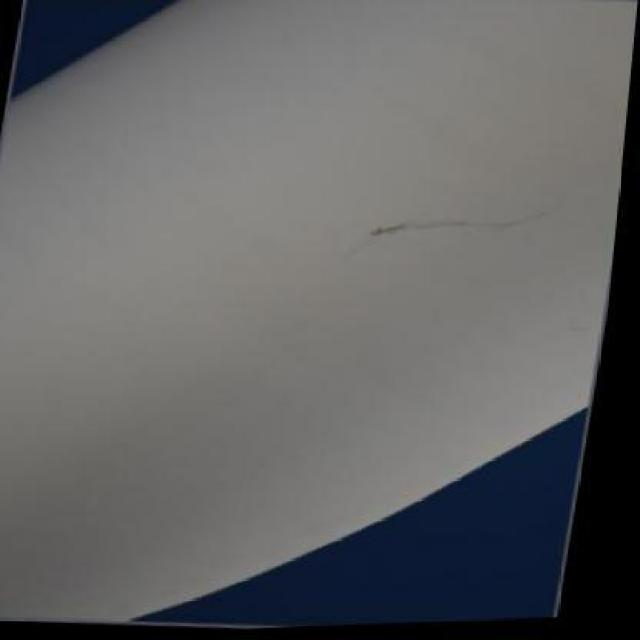Crack: (364, 212, 538, 256)
